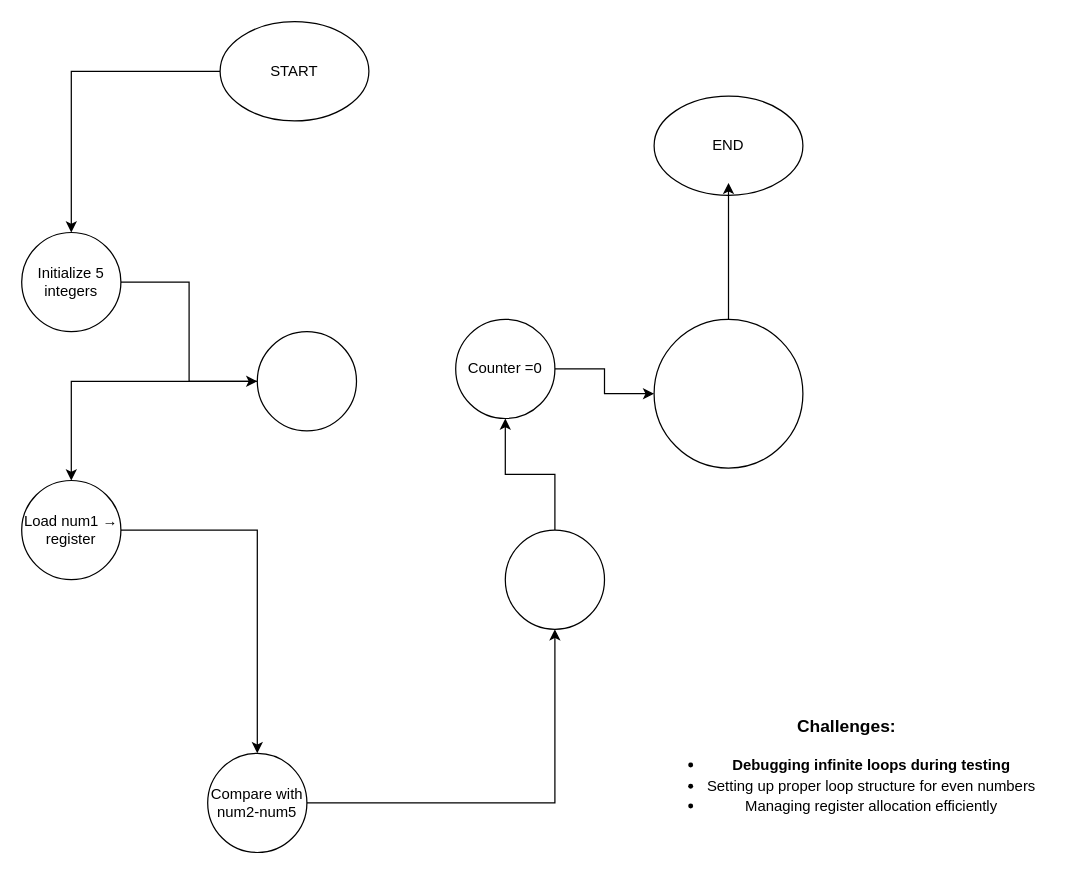
Image size: 1073x874. Some labels were removed from this diagram. The shapes that lost their labels are listed below. From the top down, each one's centre as x and y in pixels, then its label:
At [306,380]: "Declare uninitialized 'largest".
At [728,393]: "while counter ≤ 20: print counter, add 2".
At [554,579]: "Store final result".
